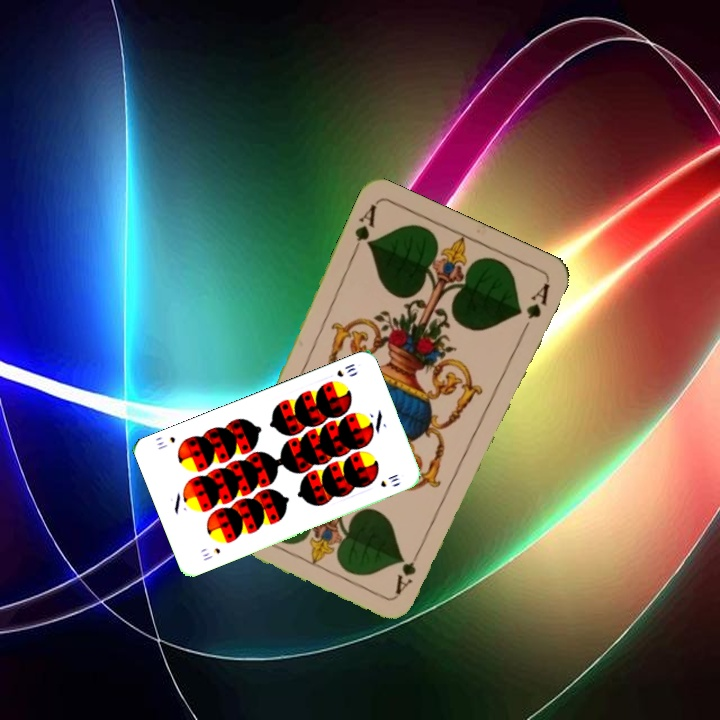GA: (391, 541, 425, 596), (348, 200, 379, 257)
S10: (333, 359, 358, 380), (199, 544, 223, 563)
